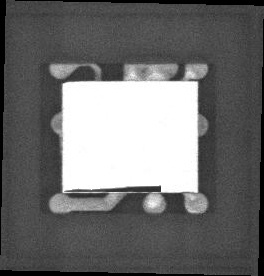DIE_BROKEN: (68, 182, 164, 192)
